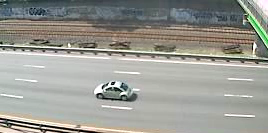car: (92, 79, 137, 102)
